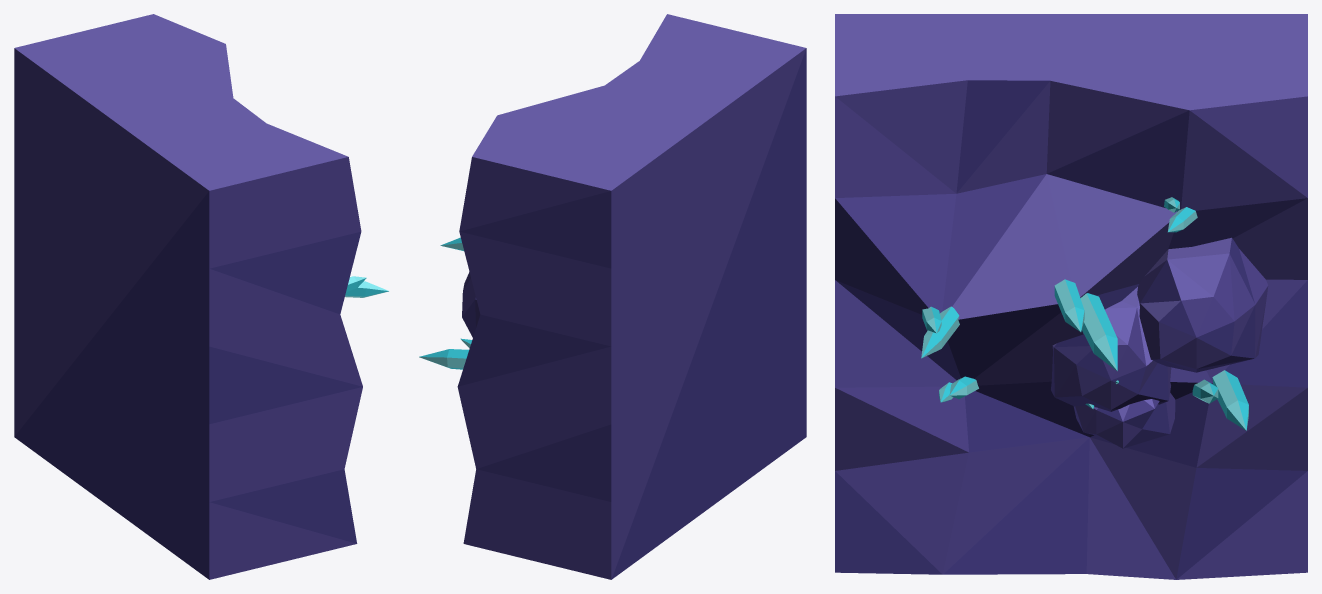
File: Mine_Wall_Rock_Vein.obj
The picture shows the model from 3 angles, left to right: view 1: azimuth 30°, elevation 25°; view 2: azimuth 150°, elevation 25°; view 3: azimuth 270°, elevation 25°; orthographic projection. The views are drawn at different scales.
Visible parts, largest first — view 1: Mine_Wall_Rock_Vein; view 2: Mine_Wall_Rock_Vein; view 3: Mine_Wall_Rock_Vein.
Part boxes in pixels (box(x1,y1,x2,y2)): Mine_Wall_Rock_Vein: box(14, 14, 389, 579); Mine_Wall_Rock_Vein: box(419, 14, 806, 579); Mine_Wall_Rock_Vein: box(835, 14, 1307, 579).
Size of the model in its own units: 2.96 by 4.4 by 4.
